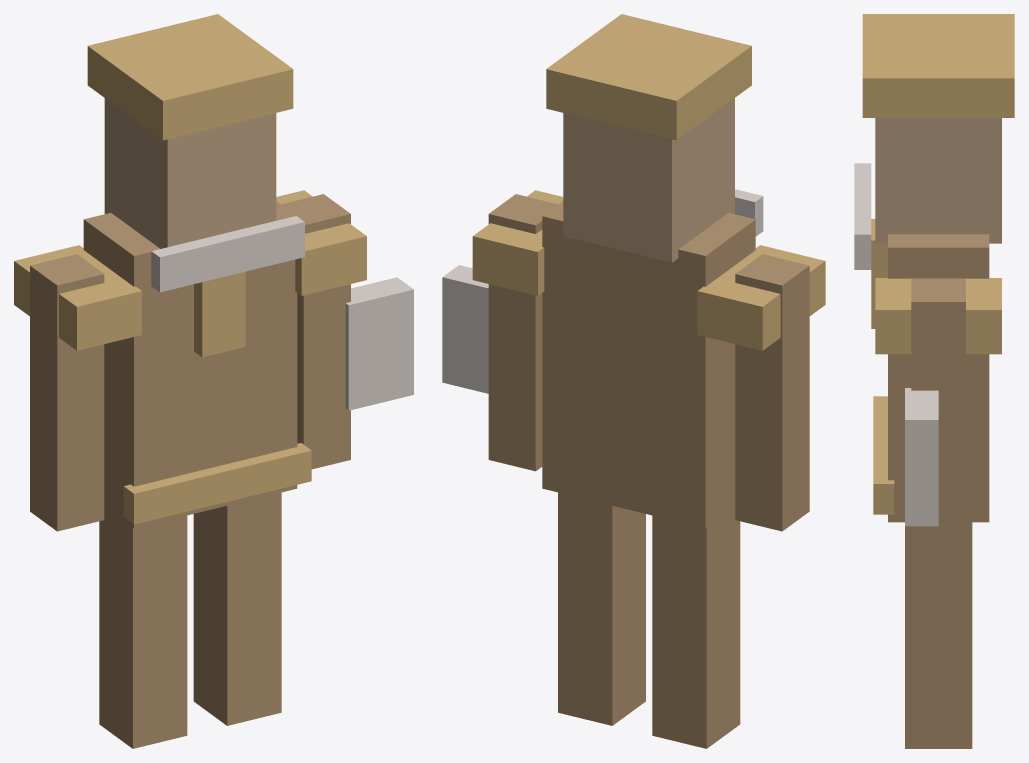
The model's file is 10_juno_voidrill_responder_of_wind.glb.
3 renders of one model, left to right at view 1: azimuth 30°, elevation 25°; view 2: azimuth 150°, elevation 25°; view 3: azimuth 270°, elevation 25°, orthographic.
Parts seen in each view (by area): view 1: Juno Voidrill, Responder of Wind; view 2: Juno Voidrill, Responder of Wind; view 3: Juno Voidrill, Responder of Wind.
Boxes of the visible parts, box(x1,y1,x2,y2) form: Juno Voidrill, Responder of Wind: box(14, 14, 413, 748); Juno Voidrill, Responder of Wind: box(442, 14, 825, 748); Juno Voidrill, Responder of Wind: box(854, 14, 1014, 748).
Bounding box in the file's own units: 0.9372 × 1.67 × 0.3653.
